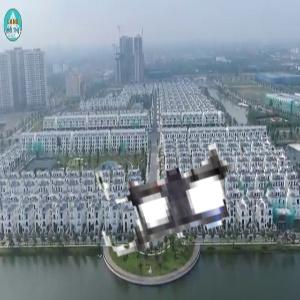drone: (91, 105, 269, 283)
